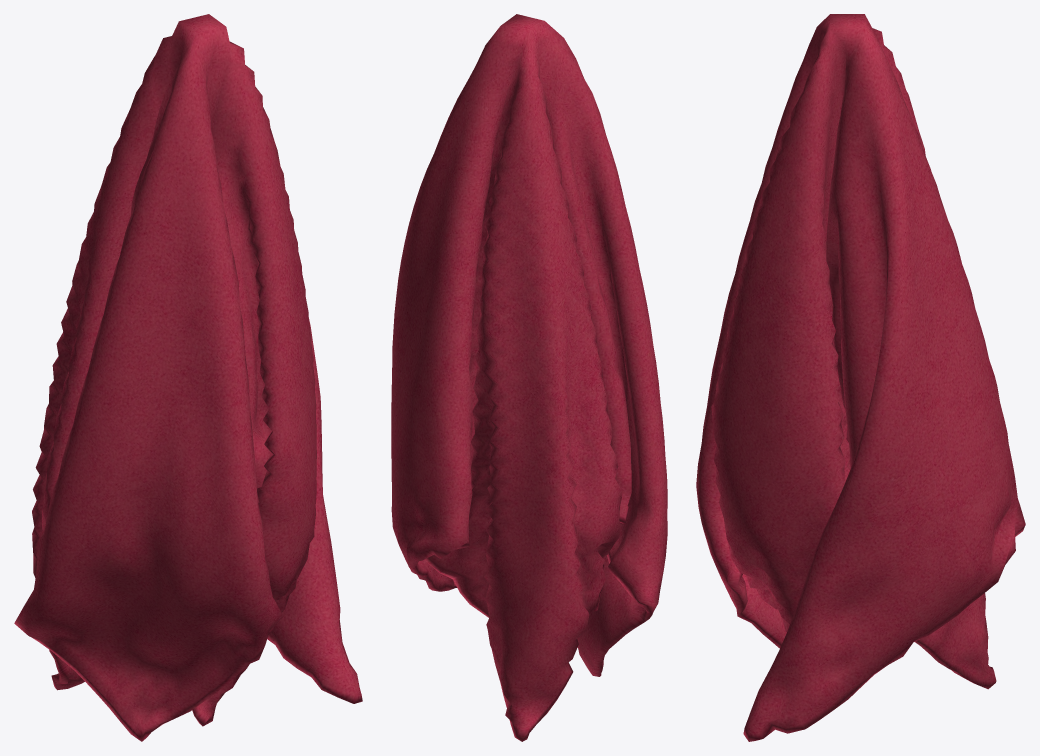
The model's file is PART1envi.fbx.
3 renders of one model, left to right at view 1: azimuth 30°, elevation 25°; view 2: azimuth 150°, elevation 25°; view 3: azimuth 270°, elevation 25°, orthographic. The views are drawn at different scales.
Visible parts, largest first — view 1: Plane; view 2: Plane; view 3: Plane.
Part boxes in pixels (x1,y1,x2,y2): Plane: (14, 14, 362, 741); Plane: (391, 14, 667, 741); Plane: (696, 14, 1025, 741).
Size of the model in its own units: 140 by 325 by 139.
